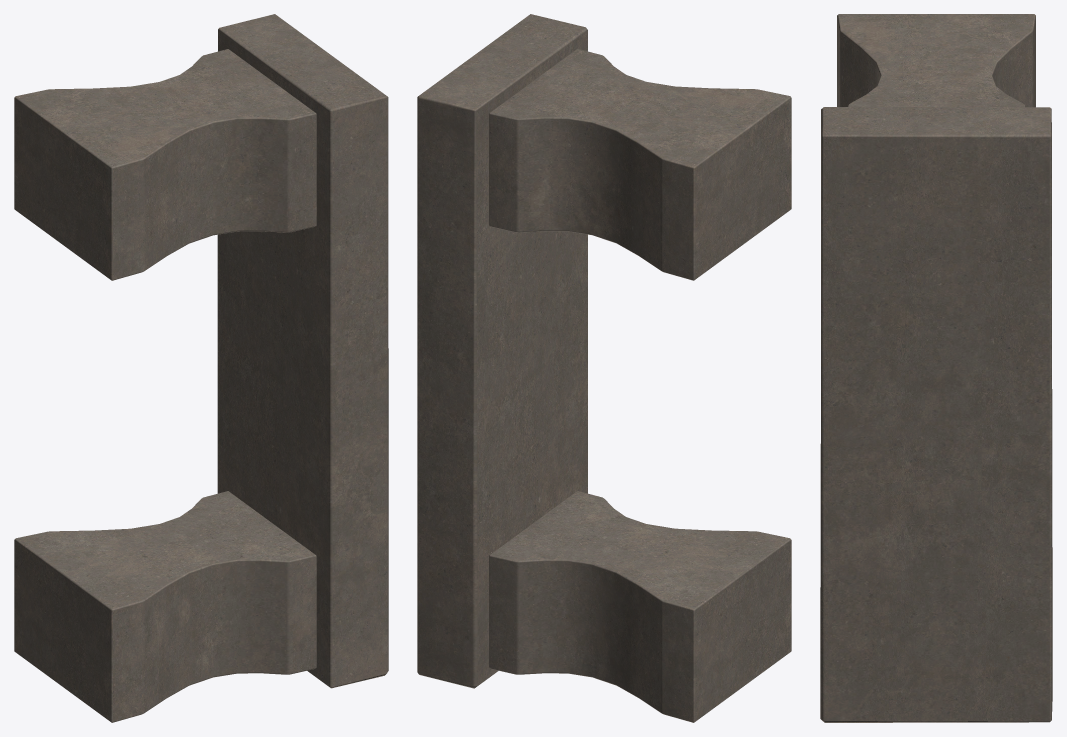
File: cP_Bench10_v02.dae
The picture shows the model from 3 angles, left to right: view 1: azimuth 30°, elevation 25°; view 2: azimuth 150°, elevation 25°; view 3: azimuth 270°, elevation 25°; orthographic projection.
Parts seen in each view (by area): view 1: cP_Bench10_v02.001; view 2: cP_Bench10_v02.001; view 3: cP_Bench10_v02.001.
Boxes of the visible parts, box(x1,y1,x2,y2) form: cP_Bench10_v02.001: box(14, 14, 388, 722); cP_Bench10_v02.001: box(417, 14, 791, 722); cP_Bench10_v02.001: box(820, 14, 1052, 722).
Bounding box in the file's own units: 0.4916 × 0.3597 × 1.01.
